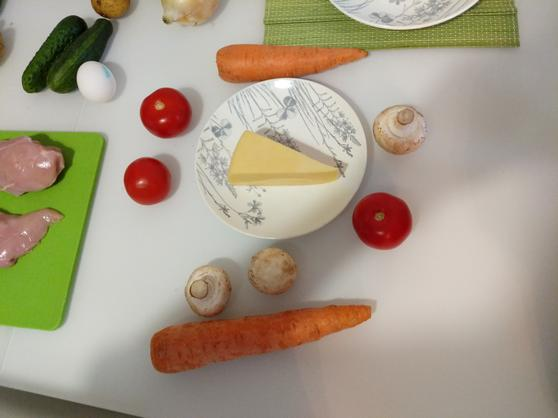carrot: (138, 302, 374, 373), (215, 43, 371, 83)
champignon: (372, 104, 428, 158), (250, 245, 303, 297), (185, 268, 231, 316)
cheese: (227, 130, 343, 190)
chicken_fillet: (2, 131, 68, 197), (1, 206, 64, 273)
cucumber: (50, 19, 113, 97), (24, 16, 86, 95)
egg: (77, 58, 121, 102)
onion: (161, 1, 227, 27)
tomato: (353, 190, 414, 254), (142, 88, 192, 137), (124, 158, 170, 206)
